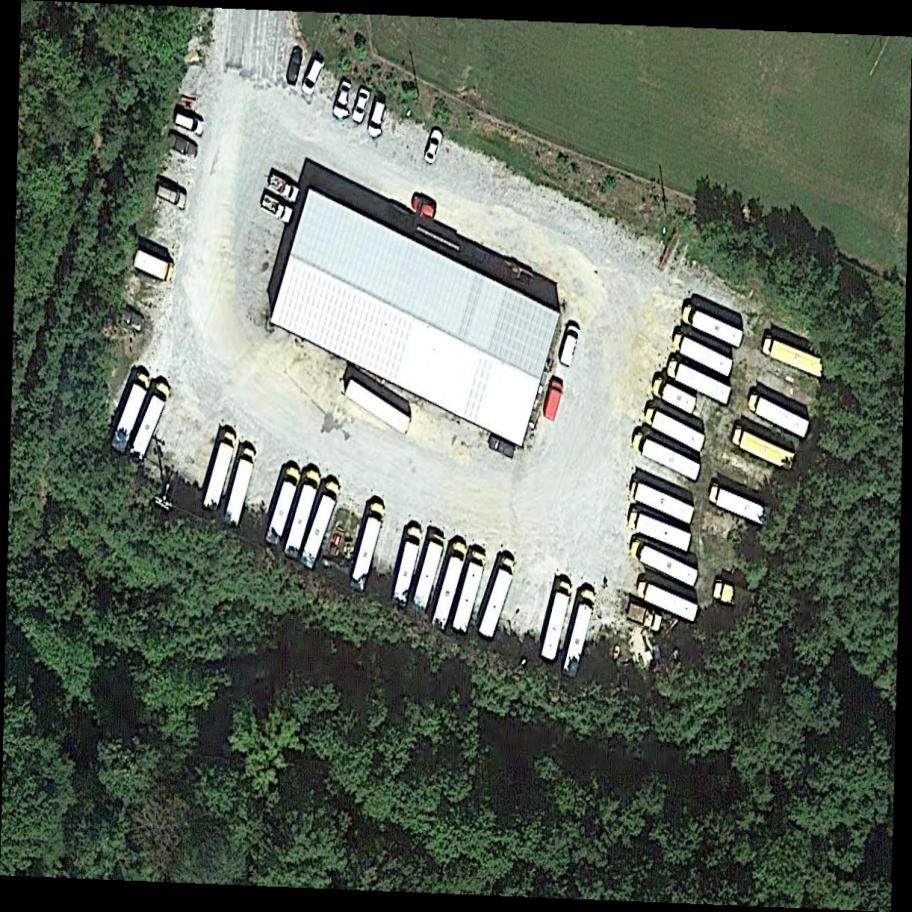large-vehicle: (347, 498, 391, 594), (297, 480, 343, 571), (127, 381, 174, 465), (108, 369, 152, 456), (429, 536, 469, 631), (476, 551, 519, 639), (627, 539, 704, 588), (629, 432, 705, 481), (283, 469, 323, 561), (662, 356, 735, 406), (450, 546, 489, 637), (560, 588, 598, 681), (637, 404, 709, 453), (200, 428, 241, 514), (410, 526, 448, 616), (668, 331, 737, 380), (727, 424, 798, 471), (678, 303, 748, 350), (264, 465, 304, 547), (743, 391, 814, 437), (704, 482, 774, 528), (628, 481, 698, 526), (389, 522, 423, 611), (222, 445, 258, 528), (624, 511, 694, 553), (634, 579, 701, 622), (759, 335, 827, 377), (539, 580, 572, 664), (711, 580, 770, 616)
small-vehicle: (649, 378, 700, 416), (130, 249, 176, 283), (111, 303, 149, 336), (257, 194, 296, 226), (624, 601, 665, 631), (556, 325, 583, 368), (542, 377, 566, 423), (485, 432, 520, 461), (163, 132, 200, 159), (267, 175, 302, 203), (301, 60, 325, 98), (154, 183, 188, 209), (366, 98, 389, 136), (422, 126, 445, 164), (409, 193, 441, 220), (332, 81, 353, 120), (173, 111, 206, 135), (351, 88, 372, 124), (285, 46, 304, 85)
